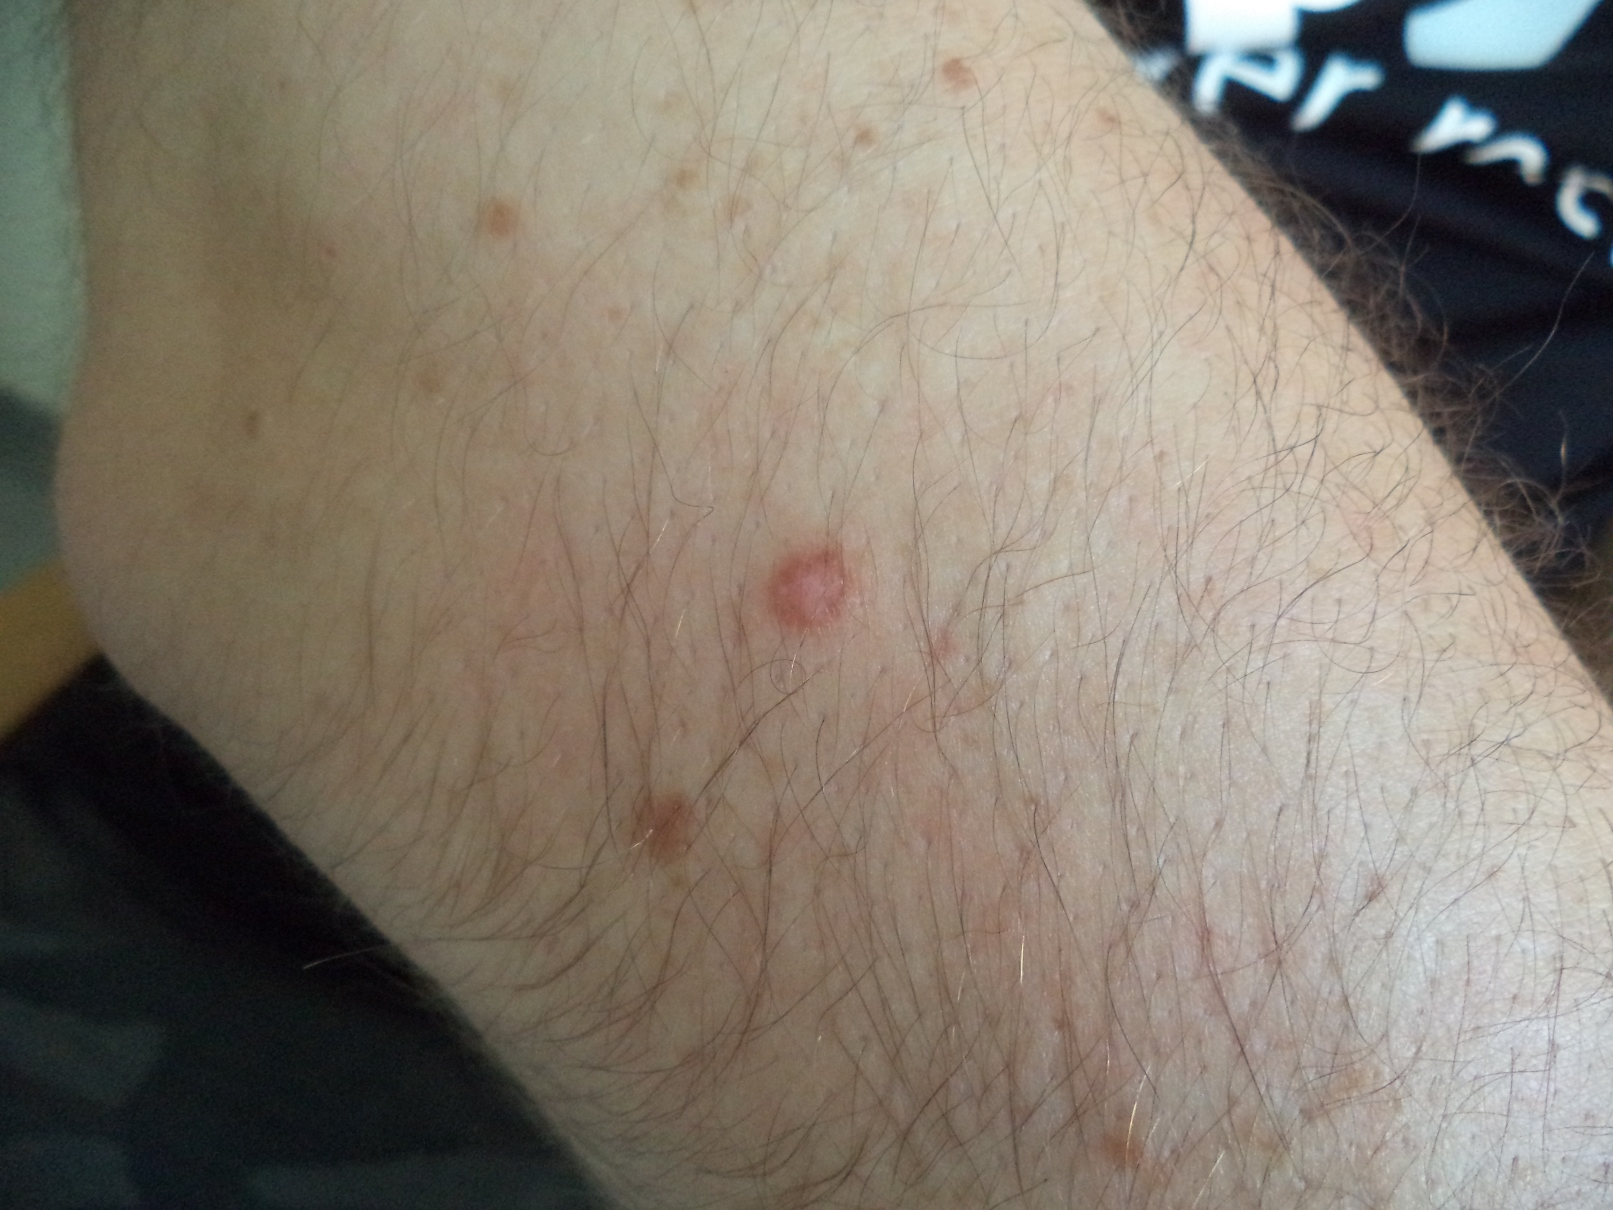melanoma: (558, 338, 1098, 833)
